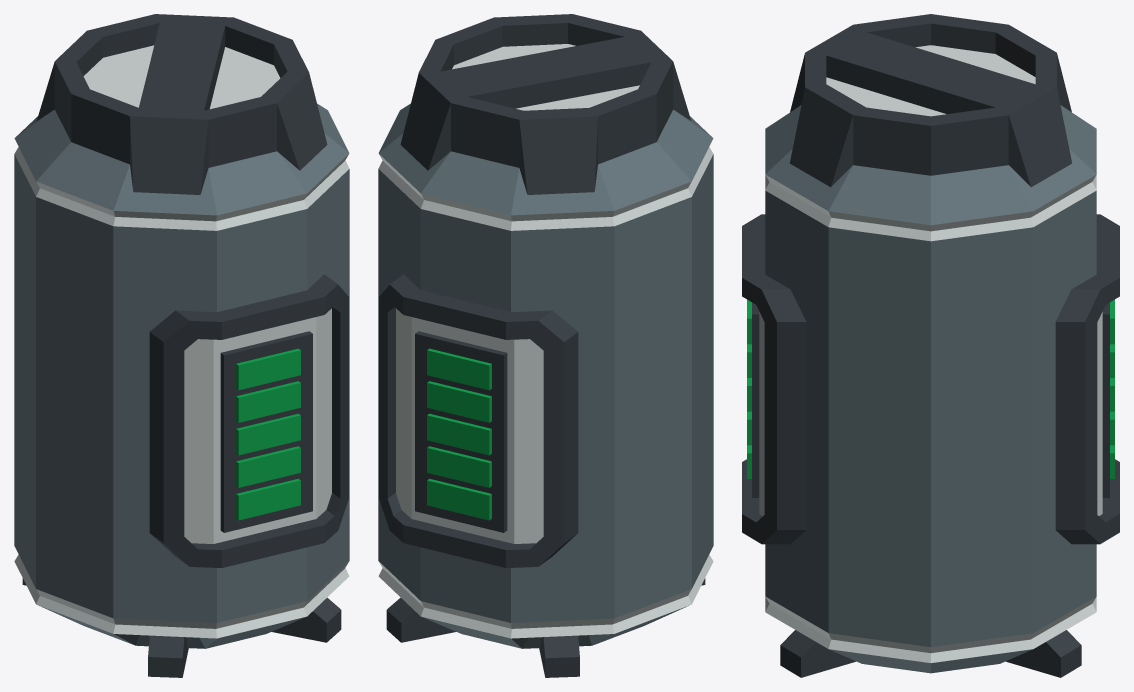
Rendered from prop15.FBX.
The picture shows the model from 3 angles, left to right: view 1: azimuth 30°, elevation 25°; view 2: azimuth 150°, elevation 25°; view 3: azimuth 270°, elevation 25°; orthographic projection. The views are drawn at different scales.
Parts seen in each view (by area): view 1: prop15; view 2: prop15; view 3: prop15.
Boxes of the visible parts, bbox=[...] form: prop15: bbox=[14, 14, 349, 677]; prop15: bbox=[378, 14, 713, 677]; prop15: bbox=[742, 14, 1119, 677].
Bounding box in the file's own units: 5.06 × 8.95 × 5.48.
